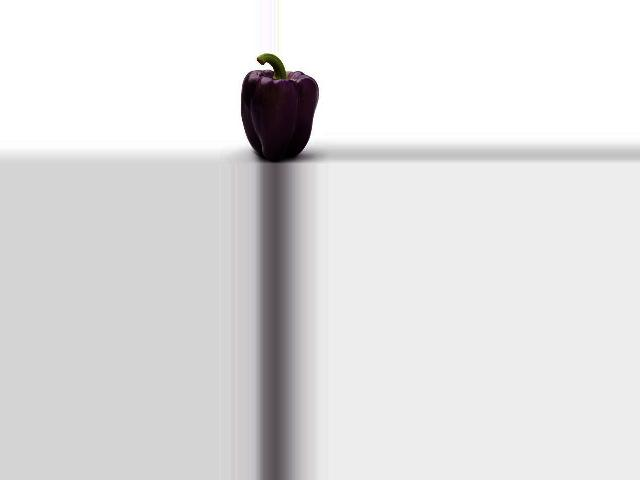bell_pepper: (232, 55, 324, 159)
